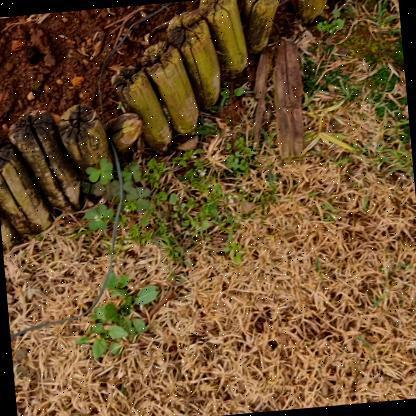Weeds: (90, 283, 161, 338), (75, 320, 131, 366), (101, 269, 133, 301), (84, 202, 116, 232), (86, 157, 114, 188), (125, 185, 155, 212), (94, 180, 122, 201), (120, 164, 146, 186)
